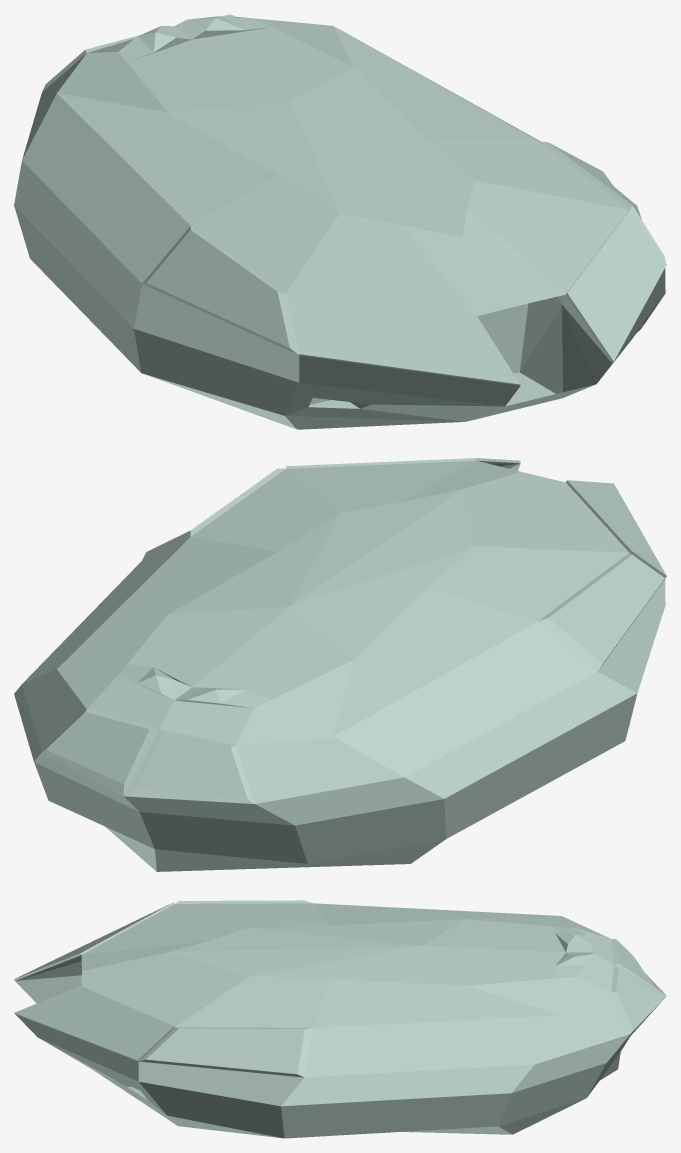
Rendered from Tower.fbx.
3 renders of one model, top to bottom at view 1: azimuth 30°, elevation 25°; view 2: azimuth 150°, elevation 25°; view 3: azimuth 270°, elevation 25°, orthographic. The views are drawn at different scales.
Visible parts, largest first — view 1: Tower; view 2: Tower; view 3: Tower.
Boxes of the visible parts, left/top/right/bottom form: Tower: left=14, top=14, right=666, bottom=429; Tower: left=14, top=458, right=666, bottom=871; Tower: left=14, top=900, right=666, bottom=1138.
Bounding box in the file's own units: 216 × 68.97 × 329.
